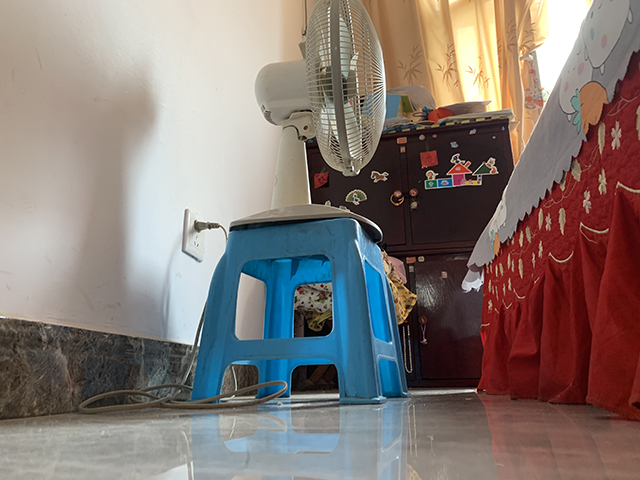bed: (460, 1, 640, 422)
cabinet: (285, 108, 515, 396)
stool: (187, 217, 413, 408)
wire: (76, 218, 288, 413)
